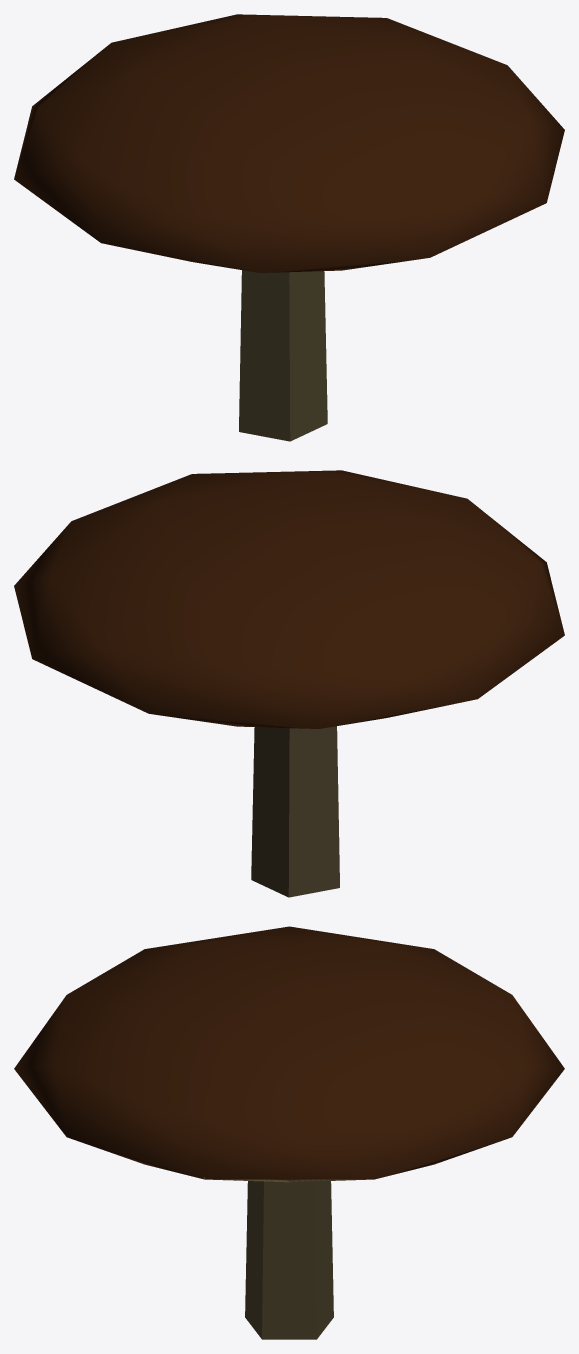
The model's file is mushroom_edible_cooked.fbx.
The picture shows the model from 3 angles, top to bottom: view 1: azimuth 30°, elevation 25°; view 2: azimuth 150°, elevation 25°; view 3: azimuth 270°, elevation 25°; orthographic projection. The views are drawn at different scales.
Parts seen in each view (by area): view 1: pPlatonic2; view 2: pPlatonic2; view 3: pPlatonic2.
Boxes of the visible parts, x1,y1,x2,y2 form: pPlatonic2: (14, 14, 564, 441); pPlatonic2: (14, 470, 564, 897); pPlatonic2: (14, 926, 564, 1339).
Bounding box in the file's own units: 30.86 × 22.99 × 32.45.
